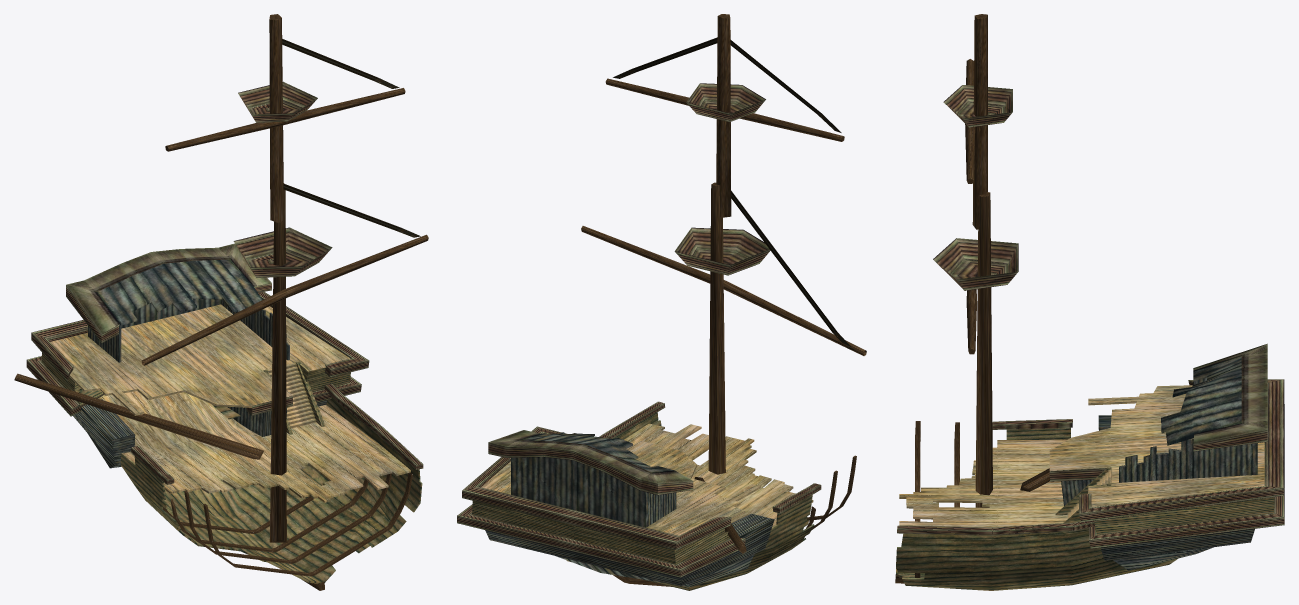
The model's file is pir_m_shp_wrk_sloop_aft.fbx.
3 renders of one model, left to right at view 1: azimuth 30°, elevation 25°; view 2: azimuth 150°, elevation 25°; view 3: azimuth 270°, elevation 25°, orthographic. The views are drawn at different scales.
Visible parts, largest first — view 1: deck_back, merchantCabinAL3:deck4, hull_back_inner, cabin_roof, cabin_trim, mast_0_high, crowsnest_0_high, mast_1_high, mast_fallen, boom_0_high, polySurface2, cabin_hull_2_left (+16 smaller); view 2: polySurface2, deck_back, merchantCabinAL3:deck4, cabin_trim, mast_0_high, crowsnest_0_high, mast_1_high, cabin_hull_2_left, cabin_trim_2_left, hull_back_outer, boom_0_high, cabin_trim_3_left (+13 smaller); view 3: hull_back_outer, merchantCabinAL3:deck4, deck_back, mast_0_high, cabin_roof, polySurface2, merchantCabinAL3:cabin_trim_2_left, cabin_trim, merchantCabinAL3:cabin_trim_3_left, crowsnest_0_high, merchantCabinAL3:cabin_hull_1_left, mast_1_high (+10 smaller).
Boxes of the visible parts, x1,y1,x2,y2 form: deck_back: [98, 391, 410, 502]; merchantCabinAL3:deck4: [50, 304, 350, 415]; hull_back_inner: [121, 397, 422, 583]; cabin_roof: [96, 259, 262, 325]; cabin_trim: [66, 243, 271, 343]; mast_0_high: [269, 183, 286, 542]; crowsnest_0_high: [233, 227, 332, 277]; mast_1_high: [269, 14, 283, 222]; mast_fallen: [14, 373, 263, 459]; boom_0_high: [141, 234, 428, 365]; polySurface2: [88, 298, 289, 362]; cabin_hull_2_left: [73, 399, 135, 465]; polySurface2: [511, 432, 676, 527]; deck_back: [624, 423, 813, 526]; merchantCabinAL3:deck4: [481, 441, 760, 535]; cabin_trim: [488, 430, 693, 495]; mast_0_high: [708, 182, 725, 474]; crowsnest_0_high: [674, 227, 770, 275]; mast_1_high: [716, 14, 731, 217]; cabin_hull_2_left: [584, 513, 774, 586]; cabin_trim_2_left: [569, 511, 731, 550]; hull_back_outer: [566, 495, 814, 590]; boom_0_high: [581, 226, 866, 355]; cabin_trim_3_left: [568, 538, 745, 577]; hull_back_outer: [896, 528, 1177, 590]; merchantCabinAL3:deck4: [1049, 385, 1264, 507]; deck_back: [899, 439, 1067, 527]; mast_0_high: [975, 192, 992, 507]; cabin_roof: [1161, 355, 1241, 445]; polySurface2: [1119, 377, 1257, 482]; merchantCabinAL3:cabin_trim_2_left: [1079, 433, 1284, 522]; cabin_trim: [1193, 343, 1267, 451]; merchantCabinAL3:cabin_trim_3_left: [1089, 461, 1284, 548]; crowsnest_0_high: [933, 238, 1018, 290]; merchantCabinAL3:cabin_hull_1_left: [1091, 484, 1274, 535]; mast_1_high: [972, 14, 987, 229].
Bounding box in the file's own units: 8347 × 15184 × 9416.
Materials: 2 (2 with a texture image).
